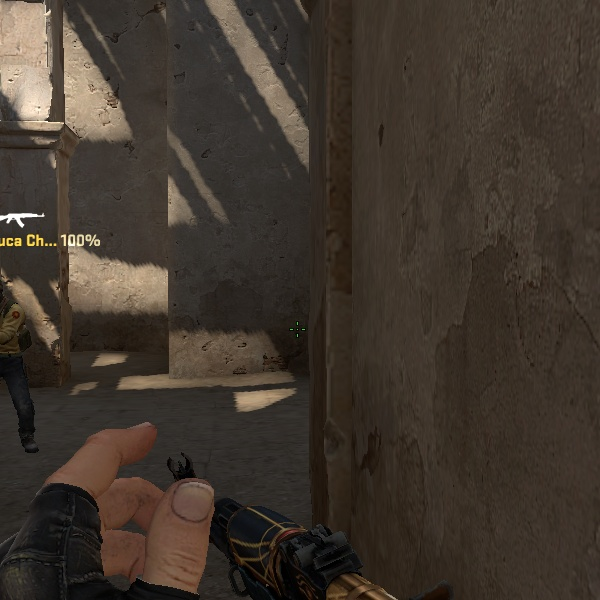t_body: (1, 267, 42, 452)
